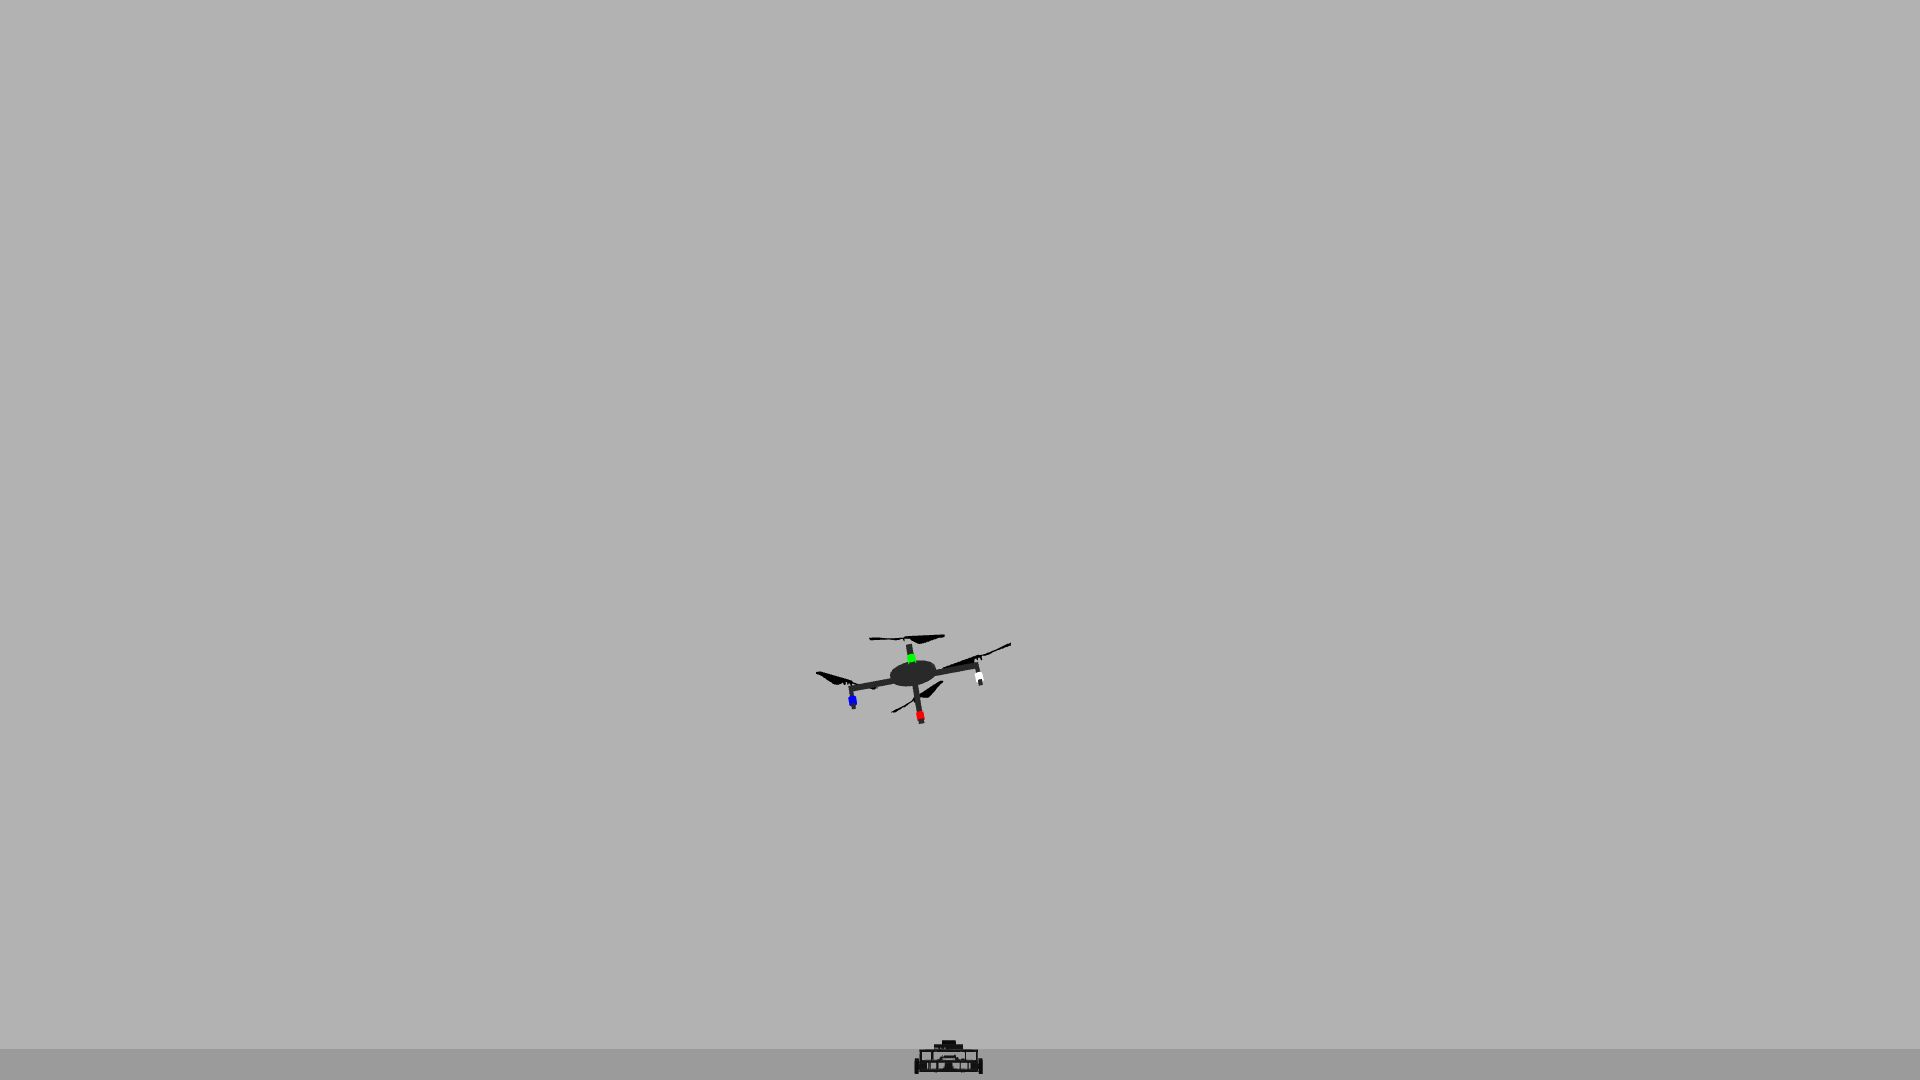drone: (806, 605, 1029, 745)
